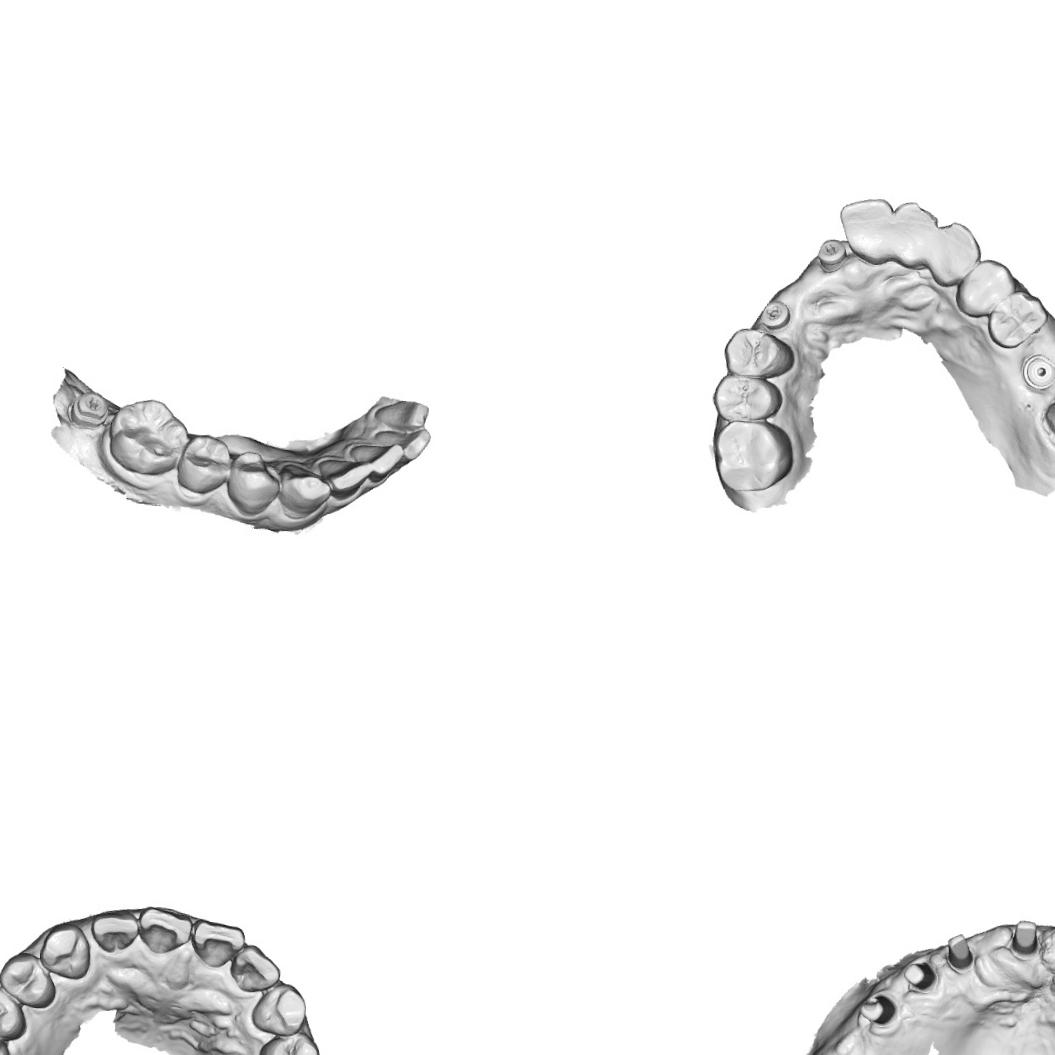abutment: (856, 990, 902, 1030), (944, 931, 978, 974), (1010, 916, 1040, 962), (900, 960, 940, 993)
canine: (273, 456, 334, 524), (930, 219, 984, 290), (36, 919, 93, 980), (250, 980, 308, 1038)
crown: (1040, 378, 1055, 453)
implant: (1019, 351, 1055, 391)
implant_minus: (66, 386, 112, 432), (816, 236, 848, 274)
implant_plus: (758, 297, 792, 330)
incisor: (836, 194, 894, 266), (890, 199, 938, 271), (187, 916, 246, 971), (311, 454, 375, 504), (136, 904, 193, 956), (228, 942, 282, 994), (344, 439, 402, 485), (88, 906, 140, 954), (373, 424, 432, 463), (370, 395, 432, 432)
molar: (102, 393, 192, 480), (710, 417, 795, 495)
premolar: (218, 446, 286, 518), (720, 325, 798, 381), (952, 255, 1018, 320), (172, 428, 233, 498), (984, 287, 1050, 351), (710, 371, 784, 424), (0, 949, 58, 1010), (255, 1027, 321, 1055), (0, 984, 28, 1042)
